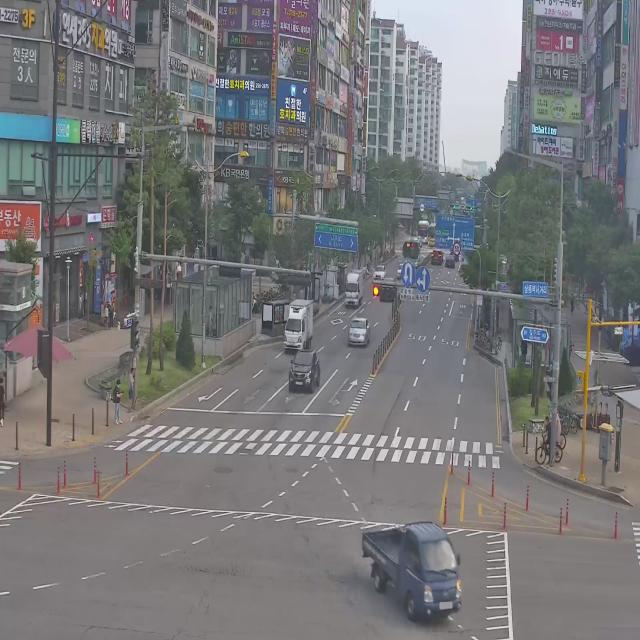Bus: (398, 229, 422, 269)
Car: (288, 349, 320, 393), (348, 318, 370, 346), (381, 275, 394, 306), (373, 266, 387, 286), (431, 247, 443, 264)
Truck: (362, 520, 462, 622), (283, 298, 313, 352), (345, 272, 364, 308)
